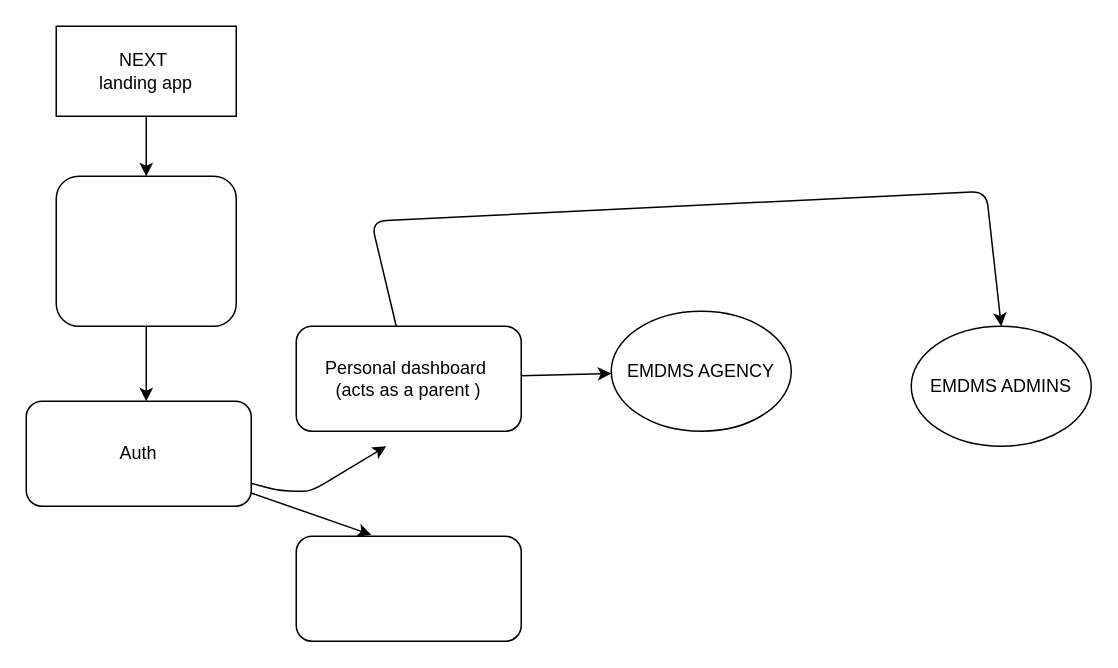
The diagram is 1118 pixels wide and 668 high, and some of its shapes have lost their labels. Each missing label, with the box of its shape:
parent: (55, 175, 236, 326)
Self - registration: (295, 535, 521, 641)
